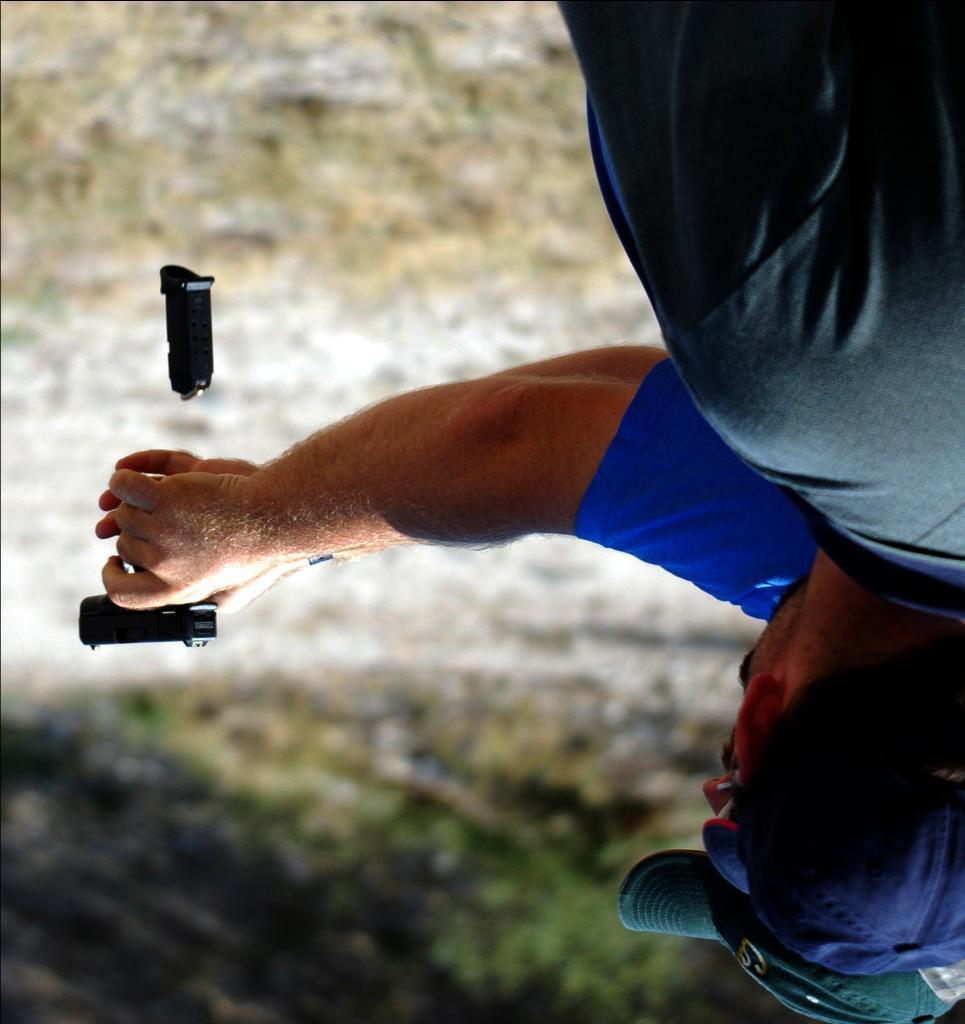gun: (73, 504, 230, 654)
